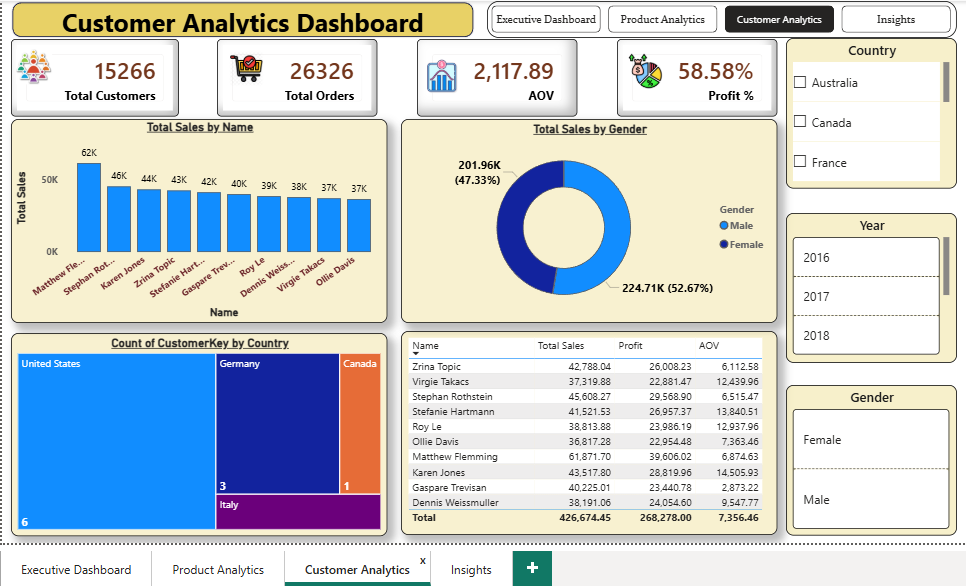

Layout of this report page (visuals, bound fields, positions):
{"tool":"powerbi","page":{"name":"Customer Analytics","canvas":[1280,720],"ordinal":2},"visuals":[{"type":"shape","box":[11.7,0,616.1,49.8],"z":0},{"type":"cardVisual","fields":{"Data":["Measures (2).Total Customers"]},"box":[11.7,50.2,223.3,103],"z":0,"group":"g5"},{"type":"cardVisual","fields":{"Data":["Measures (2).Total Orders"]},"box":[285.3,50.2,213,103],"z":0,"group":"g6"},{"type":"cardVisual","fields":{"Data":["Measures (2).AOV"]},"box":[551.8,50.2,213,103],"z":0,"group":"g7"},{"type":"cardVisual","fields":{"Data":["Measures (2).Profit %"]},"box":[816.6,50.2,213,103],"z":0,"group":"g4"},{"type":"group","id":"g1","title":"Group 2","box":[551.8,50.2,213,103],"z":1000},{"type":"image","box":[18.4,54.9,47.7,63.2],"z":1000,"group":"g5"},{"type":"image","box":[300.8,58.8,46.3,63.2],"z":1000,"group":"g6"},{"type":"image","box":[830.8,61.5,46.3,63.5],"z":1000,"group":"g4"},{"type":"image","box":[562.9,68.8,45.9,62.2],"z":1000,"group":"g7"},{"type":"group","id":"g2","title":"Group 5","box":[11.7,50.2,222.4,102.4],"z":2000},{"type":"clusteredColumnChart","fields":{"Category":["Customers.Name"],"Y":["Measures (2).Total Sales"]},"box":[11.7,157.3,500.5,270.7],"z":3000},{"type":"donutChart","fields":{"Category":["Customers.Gender"],"Y":["Measures (2).Total Sales"]},"box":[529.8,157.3,500.5,270.7],"z":4000},{"type":"treemap","fields":{"Values":["CountNonNull(Customers.CustomerKey)"],"Group":["Customers.Country"]},"box":[11.7,440.5,500.5,270],"z":5000},{"type":"tableEx","fields":{"Values":["Customers.Name","Measures (2).Total Sales","Measures (2).Profit","Measures (2).AOV"]},"box":[529.8,439,500.5,270.7],"z":6000},{"type":"listSlicer","title":"Country","fields":{"Values":["Stores.Country"]},"box":[1042,49.8,226.8,200.5],"z":7000},{"type":"advancedSlicerVisual","title":"Year","fields":{"Values":["Calendar.year"]},"box":[1042,281,226.8,199],"z":8000},{"type":"advancedSlicerVisual","title":"Gender","fields":{"Values":["Customers.Gender"]},"box":[1042,510.7,226.8,200.5],"z":9000},{"type":"group","id":"g3","title":"Group 4","box":[285.3,50.2,213.7,102.4],"z":10000},{"type":"group","id":"g4","title":"Group 3","box":[816.6,50.2,213.7,103.9],"z":11000},{"type":"pageNavigator","box":[644.6,0,624.3,48.6],"z":11001},{"type":"group","id":"g5","title":"Group 7","box":[11.7,50.2,223.3,103],"z":11001,"group":"g8"},{"type":"group","id":"g6","title":"Group 8","box":[285.3,50.2,213,103],"z":11001,"group":"g3"},{"type":"group","id":"g7","title":"Group 9","box":[551.8,50.2,213,103],"z":11001,"group":"g1"},{"type":"group","id":"g8","title":"Group 6","box":[11.7,50.2,223.3,103],"z":11009,"group":"g2"}]}

Visuals, with their boxes on the page's 1280x720 design canvas (x1, y1, x2, y2). These are canvas units, not pixel positions in the 966x586 screenshot, which may show the page scaled, cropped or inside an application window:
shape: (12,0,628,50)
cardVisual - Measures (2).Total Customers: (12,50,235,153)
cardVisual - Measures (2).Total Orders: (285,50,498,153)
cardVisual - Measures (2).AOV: (552,50,765,153)
cardVisual - Measures (2).Profit %: (817,50,1030,153)
"Group 2" group: (552,50,765,153)
image: (18,55,66,118)
image: (301,59,347,122)
image: (831,62,877,125)
image: (563,69,609,131)
"Group 5" group: (12,50,234,153)
clusteredColumnChart - Customers.Name x Measures (2).Total Sales: (12,157,512,428)
donutChart - Customers.Gender x Measures (2).Total Sales: (530,157,1030,428)
treemap - CountNonNull(Customers.CustomerKey) x Customers.Country: (12,440,512,710)
tableEx - Customers.Name x Measures (2).Total Sales: (530,439,1030,710)
"Country" listSlicer: (1042,50,1269,250)
"Year" advancedSlicerVisual: (1042,281,1269,480)
"Gender" advancedSlicerVisual: (1042,511,1269,711)
"Group 4" group: (285,50,499,153)
"Group 3" group: (817,50,1030,154)
pageNavigator: (645,0,1269,49)
"Group 7" group: (12,50,235,153)
"Group 8" group: (285,50,498,153)
"Group 9" group: (552,50,765,153)
"Group 6" group: (12,50,235,153)
